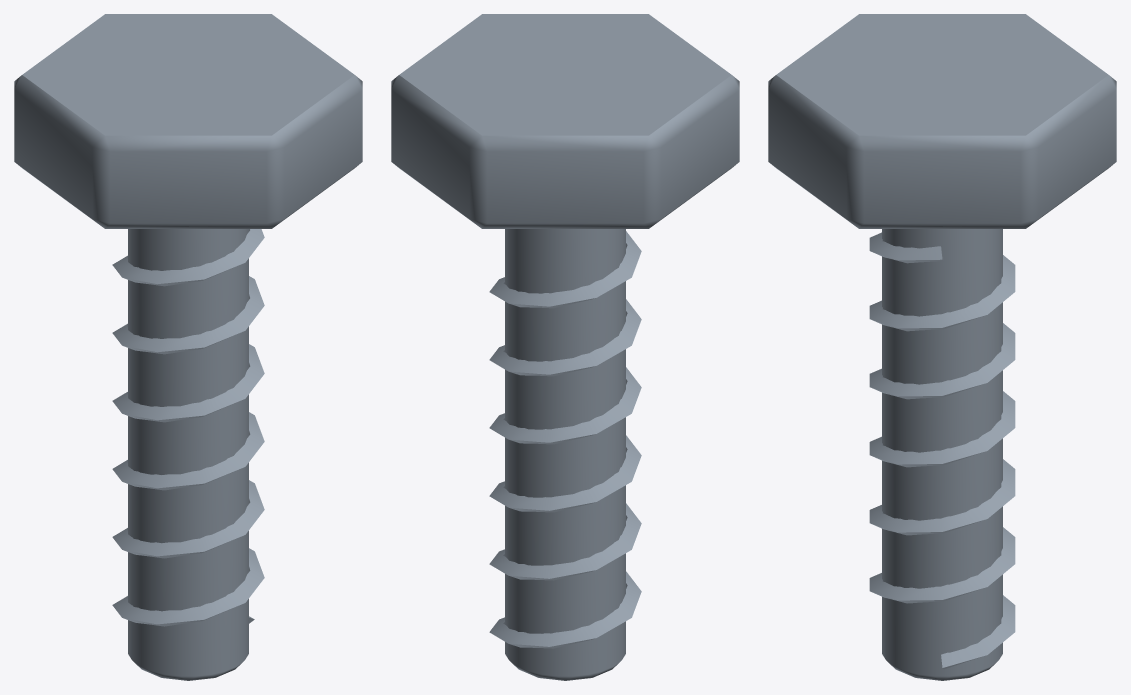
The model's file is SM_HexBolt.fbx.
3 renders of one model, left to right at view 1: azimuth 30°, elevation 25°; view 2: azimuth 150°, elevation 25°; view 3: azimuth 270°, elevation 25°, orthographic.
Parts seen in each view (by area): view 1: SM_HexBolt; view 2: SM_HexBolt; view 3: SM_HexBolt.
Boxes of the visible parts, x1,y1,x2,y2 form: SM_HexBolt: (14,14,362,680); SM_HexBolt: (391,14,739,680); SM_HexBolt: (768,14,1116,680).
Bounding box in the file's own units: 1.7 × 1.89 × 3.5.
